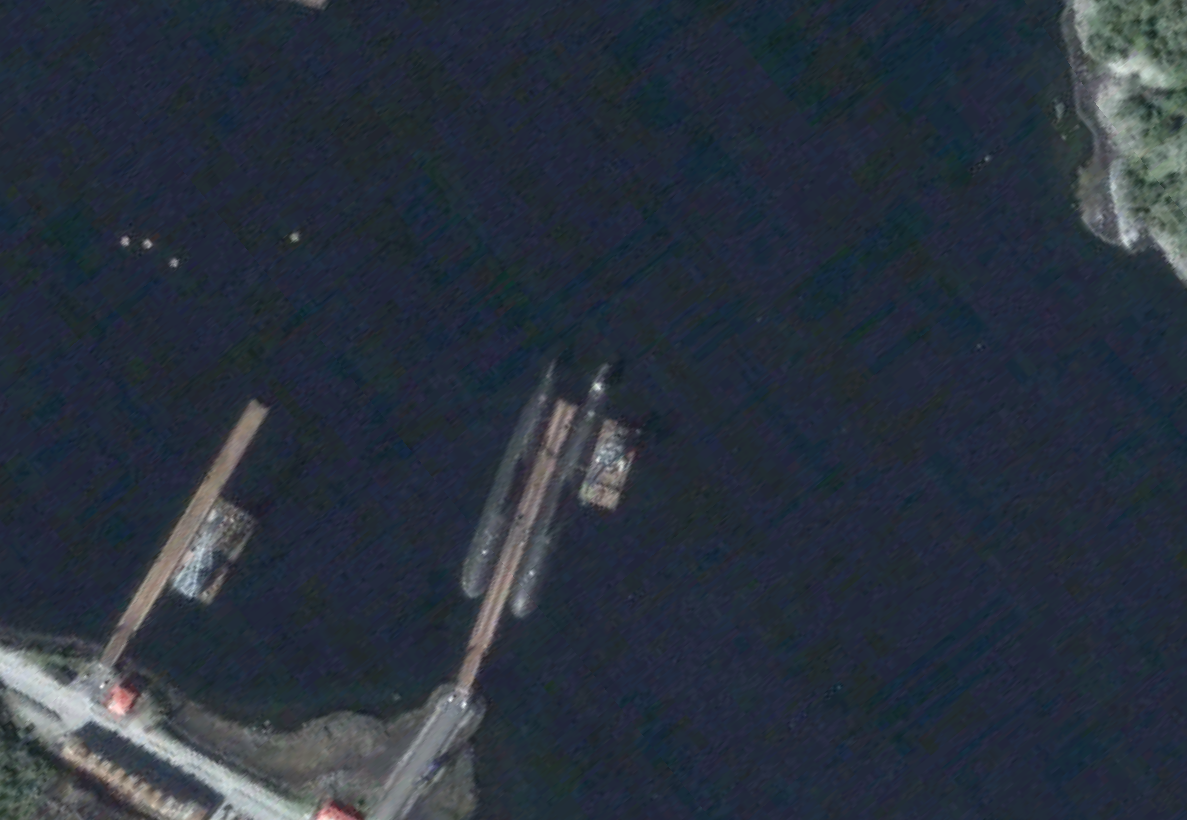submarine: (510, 357, 614, 619), (458, 360, 558, 599)
